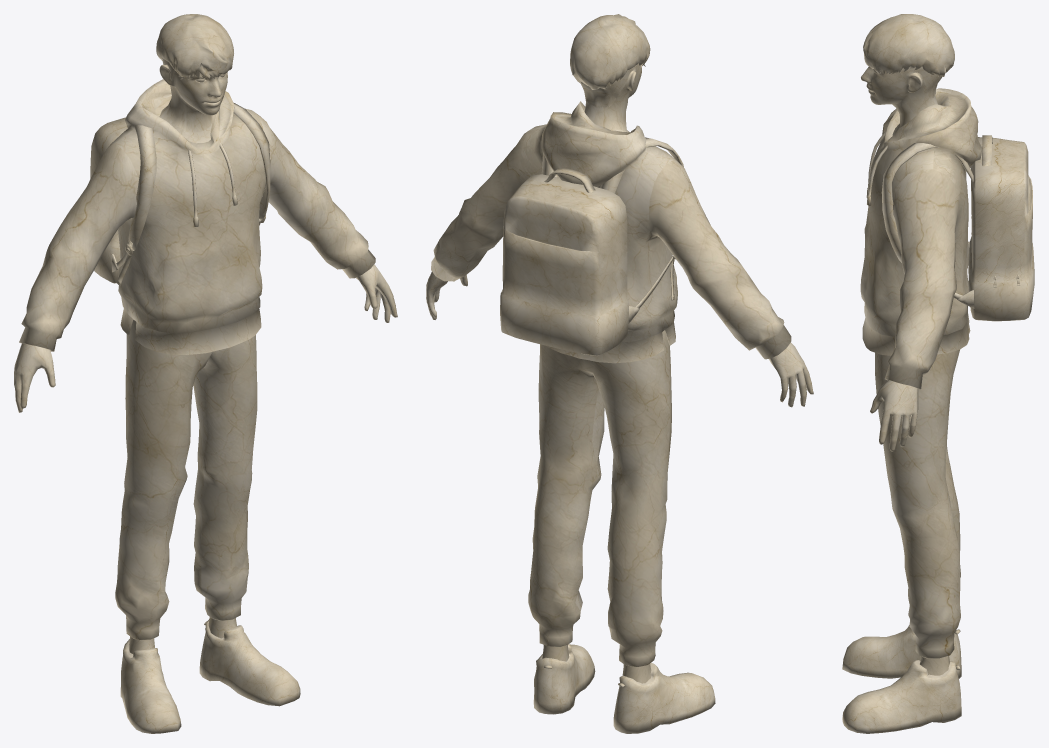
Rendered from Sample_Avatar_M_001.fbx.
The picture shows the model from 3 angles, left to right: view 1: azimuth 30°, elevation 25°; view 2: azimuth 150°, elevation 25°; view 3: azimuth 270°, elevation 25°; orthographic projection.
Visible parts, largest first — view 1: Sample_Avatar_M_001; view 2: Sample_Avatar_M_001; view 3: Sample_Avatar_M_001.
Part boxes in pixels (x1=…): Sample_Avatar_M_001: x1=14, y1=14, x2=397, y2=733; Sample_Avatar_M_001: x1=426, y1=14, x2=813, y2=733; Sample_Avatar_M_001: x1=842, y1=14, x2=1034, y2=733.
Bounding box in the file's own units: 1.05 × 1.81 × 0.466.
